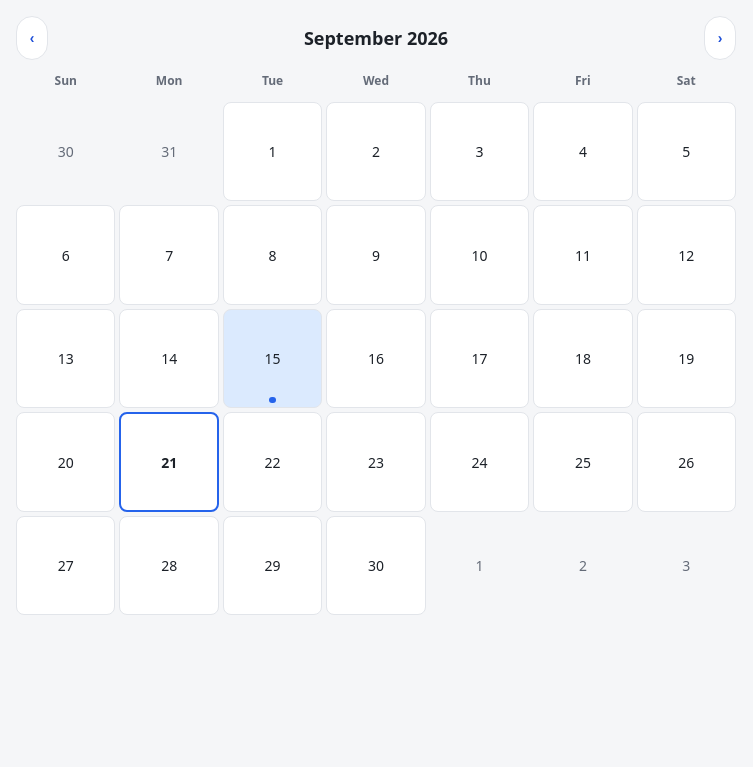
AppointmentCalendar › surfaces a day's appointments when it's selected, reusing the appointment-row presentation
The width and height of the screenshot is (753, 767).
Expected: the text "Blood test" is not shown
Click the button with test id "calendar-day-2026-09-15" at (273, 359), box [223, 309, 322, 408]
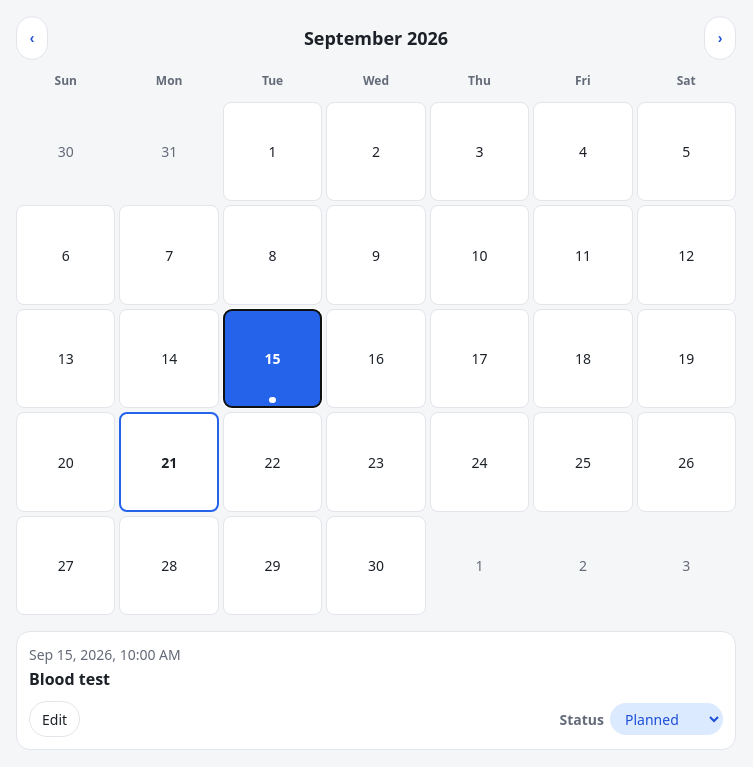
Now the text "Blood test" is shown, box [29, 668, 110, 690]
Now the button "Edit" is shown, box [29, 701, 80, 737]
